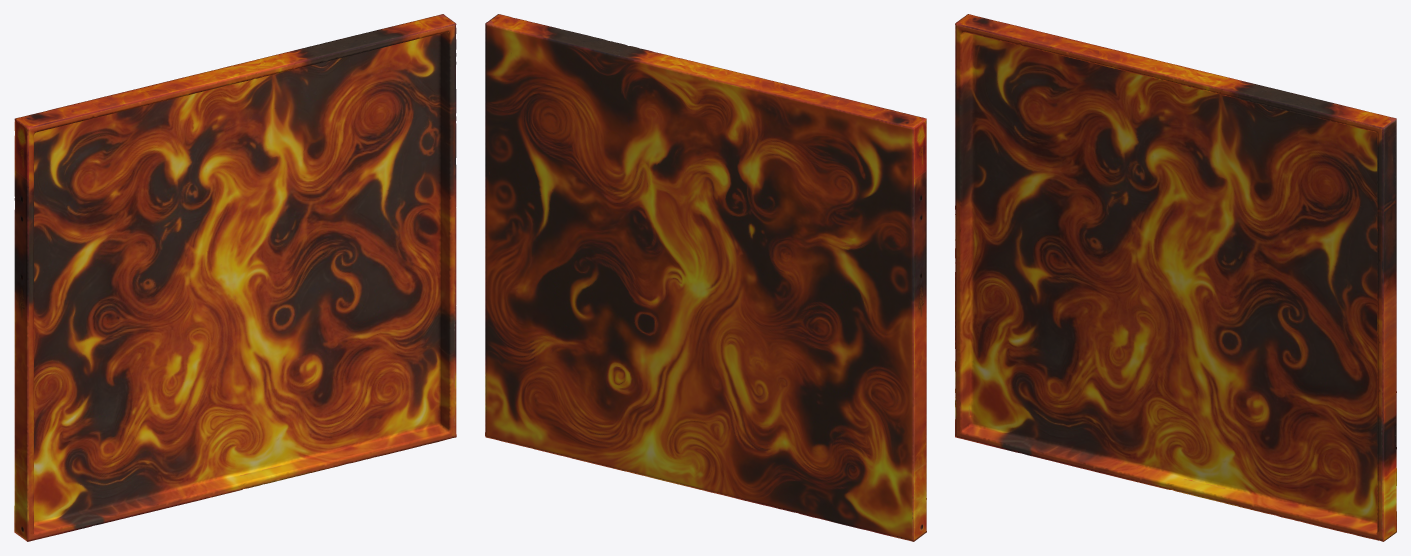
File: Meshy_AI_a_flat_fire_tile_at__1115233021_texture.glb
3 views of the same model, side by side, from view 1: azimuth 30°, elevation 25°; view 2: azimuth 150°, elevation 25°; view 3: azimuth 330°, elevation 25° (orthographic).
Bounding box in the file's own units: 1.98 × 1.83 × 0.1101.
Materials: 1 (1 with a texture image).
